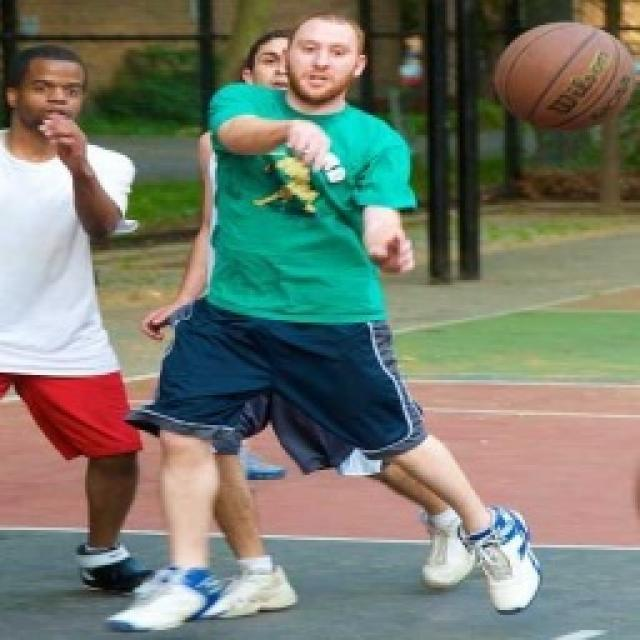rim: (490, 16, 637, 136)
